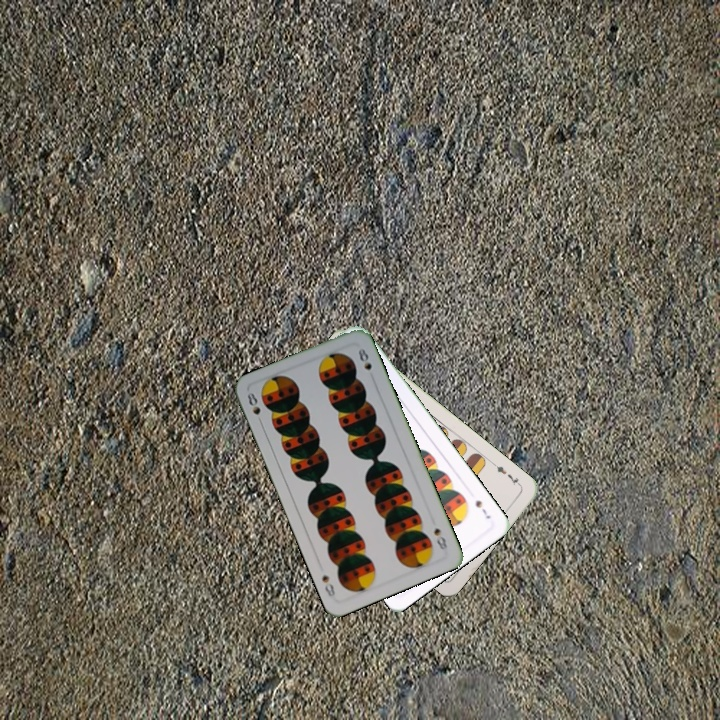E7: (489, 459, 524, 489)
S7: (471, 496, 494, 521)
S8: (243, 388, 263, 417), (430, 524, 450, 552)
